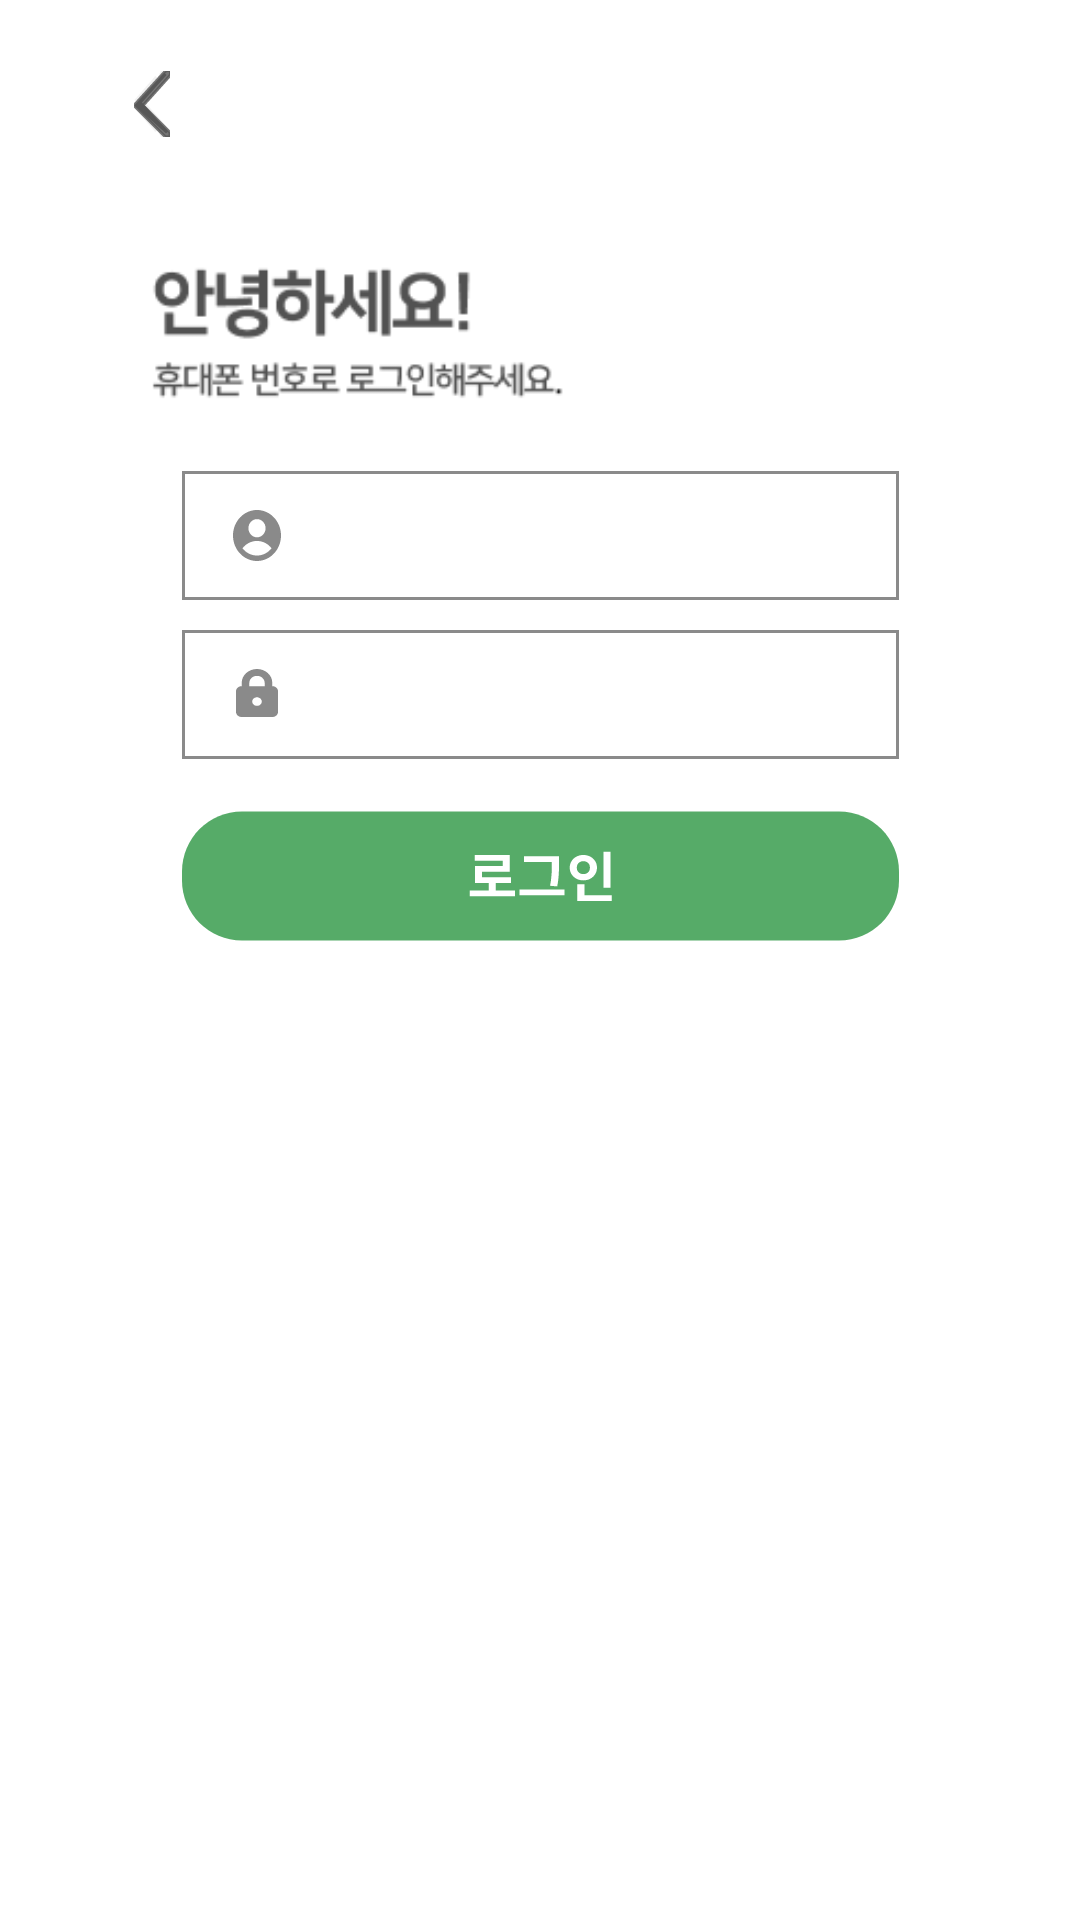

Where icons sit on this 1080*1920 app screen, as rect(x1, y1, x2, y2):
login back: rect(134, 71, 170, 137)
